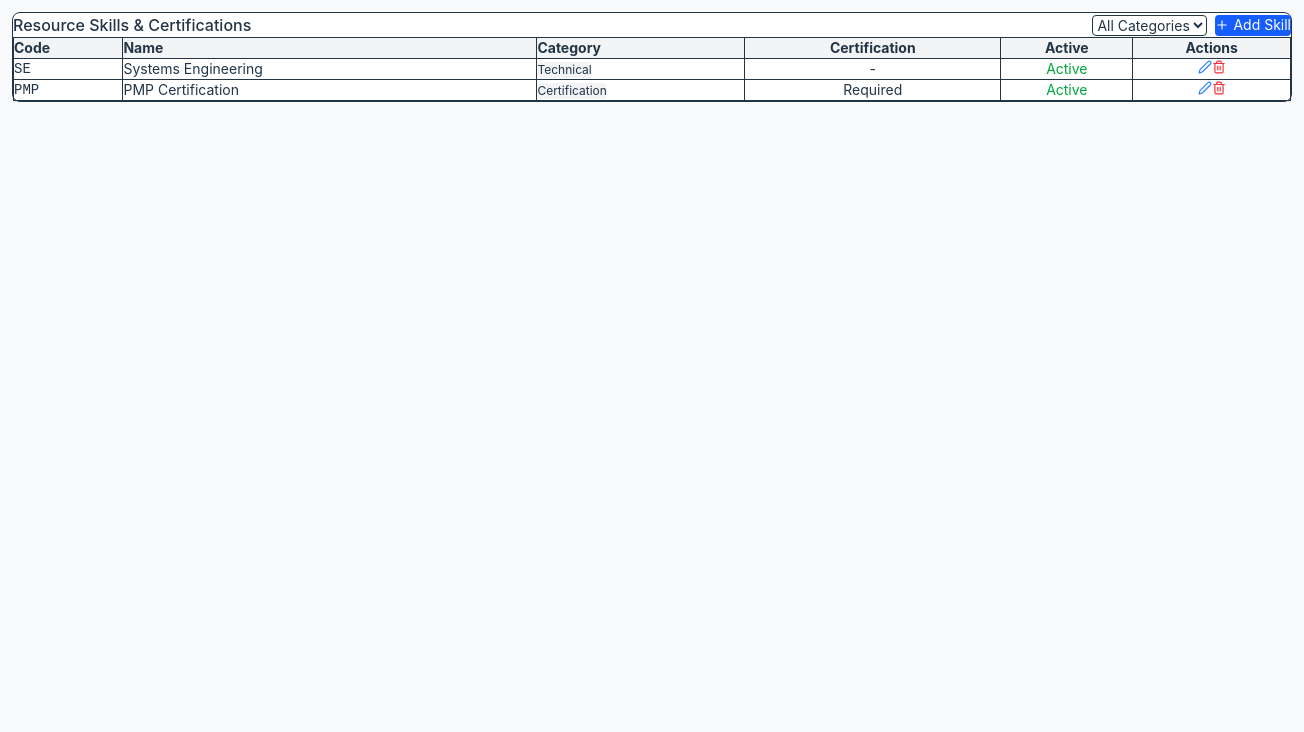
SkillsPanel › shows error toast on delete failure
Step 1. Click the button titled "Delete" in the row of "SE" → (1219, 67), box [1212, 60, 1226, 74]
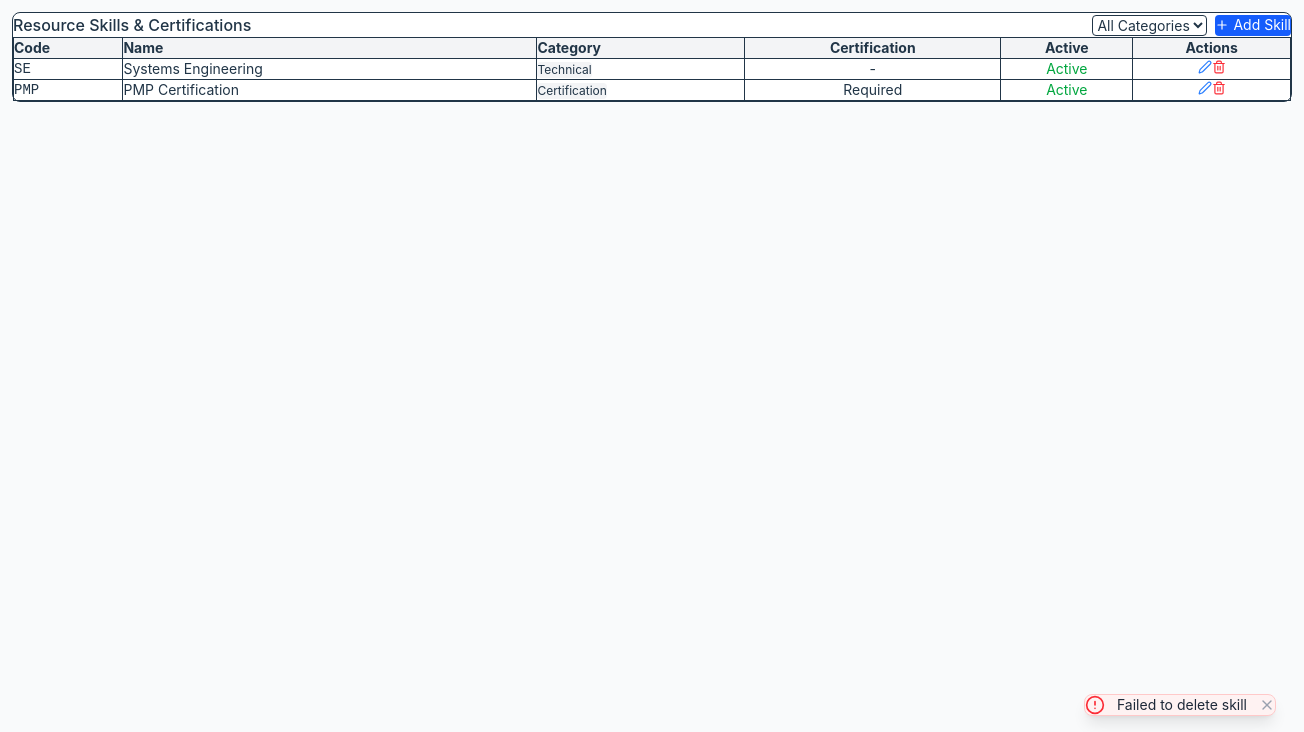
Check: the text "Failed to delete skill" is shown, box [1117, 695, 1247, 715]
